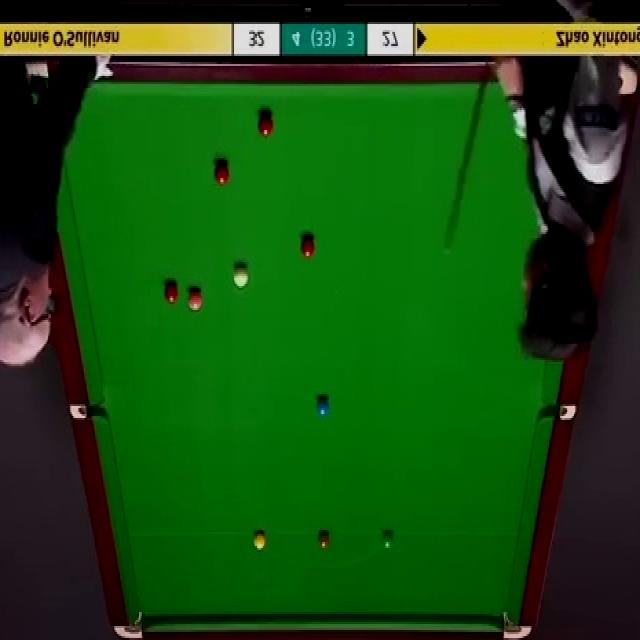pocket: (112, 610, 144, 640), (502, 608, 533, 638), (27, 60, 47, 98), (70, 400, 104, 419), (542, 399, 576, 418)
